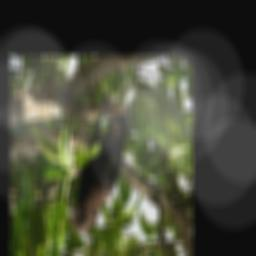Crow: (64, 102, 130, 237)
